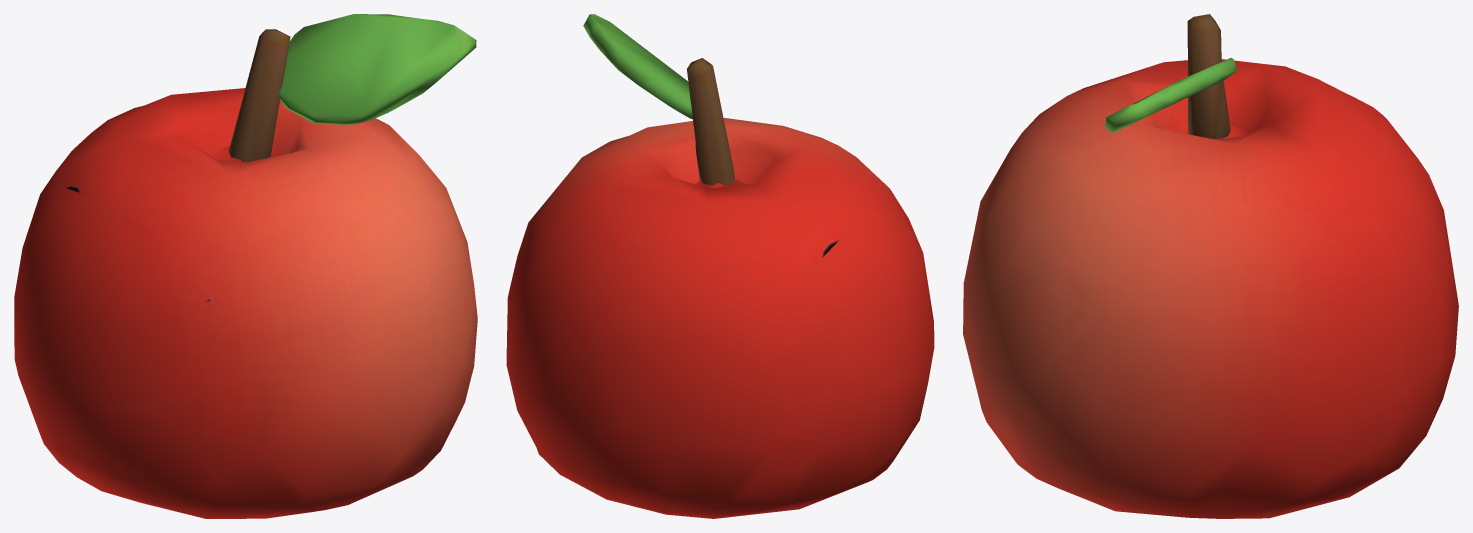
Rendered from apple.glb.
3 renders of one model, left to right at view 1: azimuth 30°, elevation 25°; view 2: azimuth 150°, elevation 25°; view 3: azimuth 270°, elevation 25°, orthographic. The views are drawn at different scales.
Visible parts, largest first — view 1: apple; view 2: apple; view 3: apple.
Boxes of the visible parts, left/top/right/bottom form: apple: left=14, top=14, right=477, bottom=518; apple: left=506, top=14, right=934, bottom=518; apple: left=963, top=14, right=1458, bottom=518.
Size of the model in its own units: 0.1222 by 0.1314 by 0.1223.
Materials: 1 (1 with a texture image).
